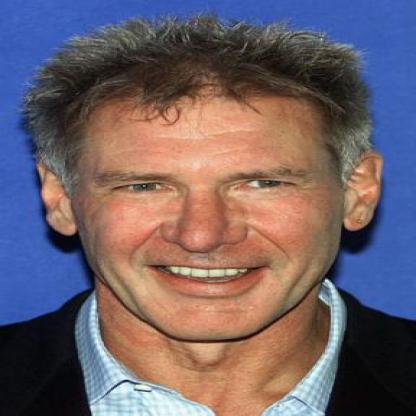face: (75, 60, 345, 344)
